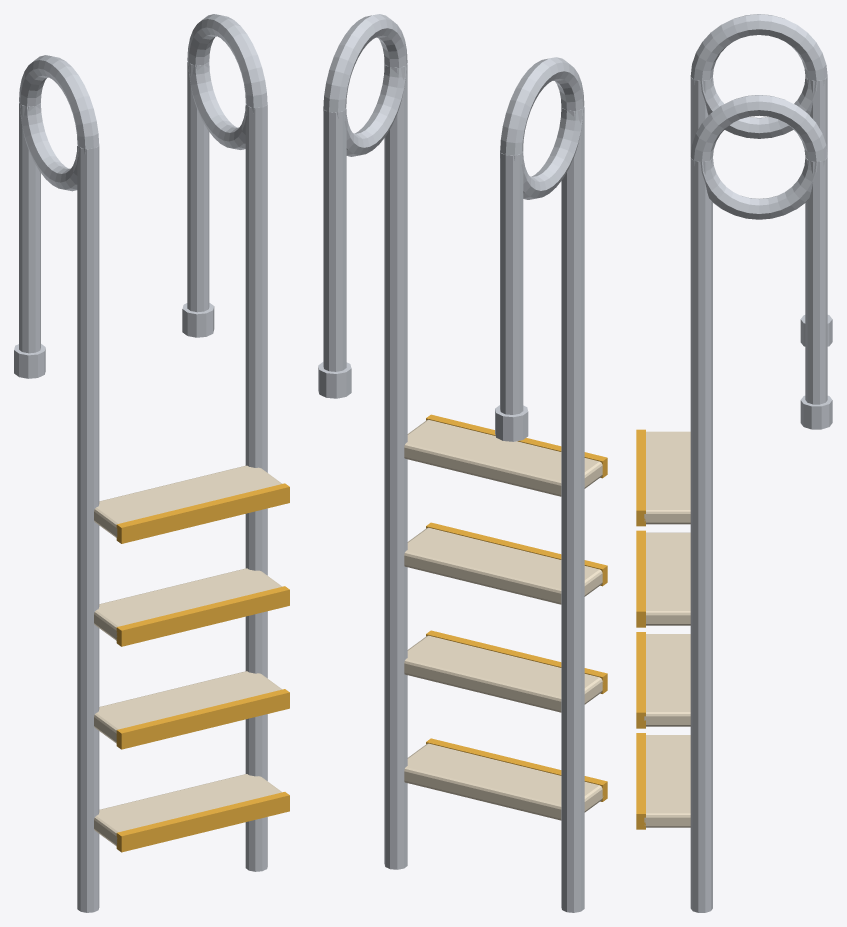
File: pool_ladder.glb
3 views of the same model, side by side, from view 1: azimuth 30°, elevation 25°; view 2: azimuth 150°, elevation 25°; view 3: azimuth 270°, elevation 25° (orthographic). The views are drawn at different scales.
Visible parts, largest first — view 1: down0, down1, bend0, bend1, step0, step2, step1, step3, up1, up0, edge2, edge1 (+4 smaller); view 2: down0, down1, step3, step2, step1, step0, up0, up1, bend1, bend0, edge1, edge2 (+4 smaller); view 3: down1, bend1, bend0, up1, step0, step1, step3, step2, edge1, edge0, edge2, edge3 (+3 smaller).
Boxes of the visible parts, x1,y1,x2,y2 form: down0: (77, 143, 99, 912); down1: (245, 103, 267, 871); bend0: (19, 55, 99, 191); bend1: (187, 14, 267, 149); step0: (94, 465, 282, 537); step2: (94, 671, 282, 743); step1: (94, 568, 281, 640); step3: (94, 774, 281, 846); up1: (187, 61, 209, 312); up0: (19, 102, 40, 353); edge2: (116, 689, 289, 749); edge1: (116, 586, 289, 646); down0: (561, 106, 584, 912); down1: (384, 63, 407, 869); step3: (404, 743, 603, 820); step2: (404, 635, 602, 712); step1: (404, 527, 602, 604); step0: (404, 419, 602, 496); up0: (500, 150, 523, 414); up1: (323, 108, 346, 371); bend1: (323, 14, 407, 156); bend0: (500, 57, 584, 199); edge1: (426, 522, 607, 586); edge2: (426, 630, 607, 693); down1: (690, 157, 712, 912); bend1: (690, 95, 827, 219); bend0: (690, 14, 827, 138); up1: (805, 157, 827, 404); step0: (644, 431, 690, 524); step1: (646, 532, 690, 625); step3: (644, 735, 690, 827); step2: (644, 634, 690, 726); edge1: (636, 530, 645, 627); edge0: (636, 429, 645, 526); edge2: (636, 632, 645, 728); edge3: (636, 733, 645, 829).
Bounding box in the file's own units: 0.6951 × 2.81 × 0.615.
